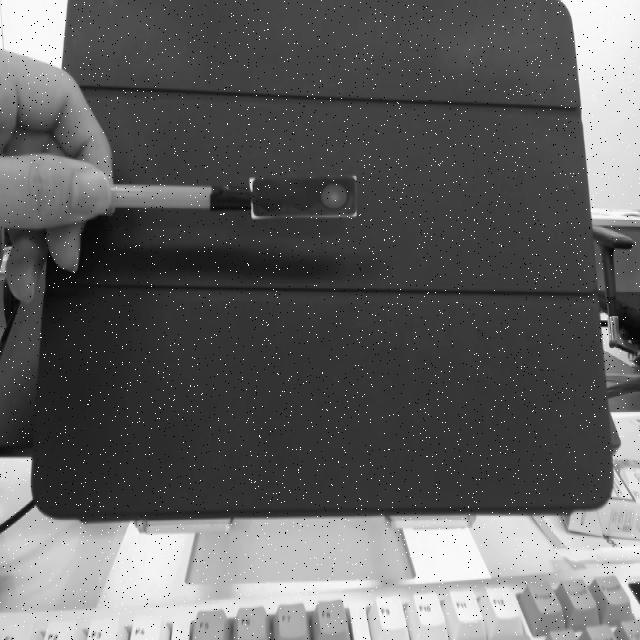traffic light: (248, 176, 361, 222)
